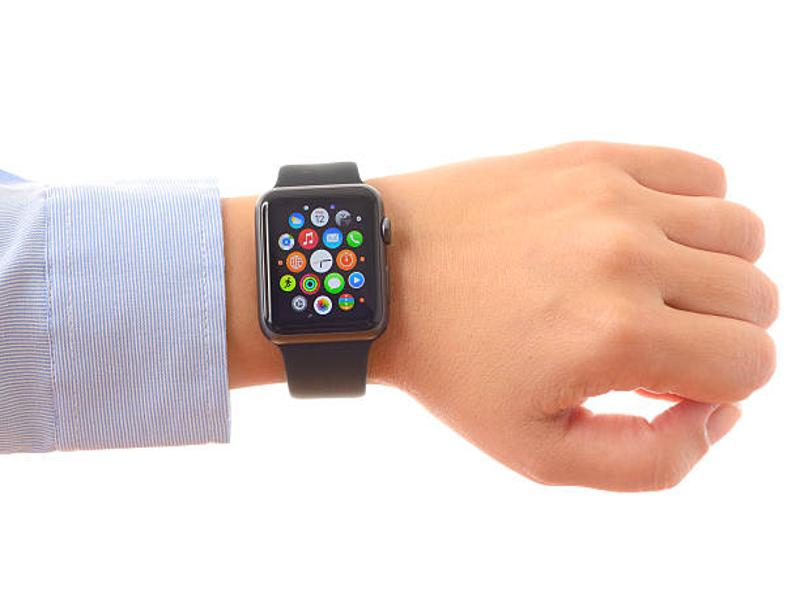watch: (253, 156, 388, 405)
